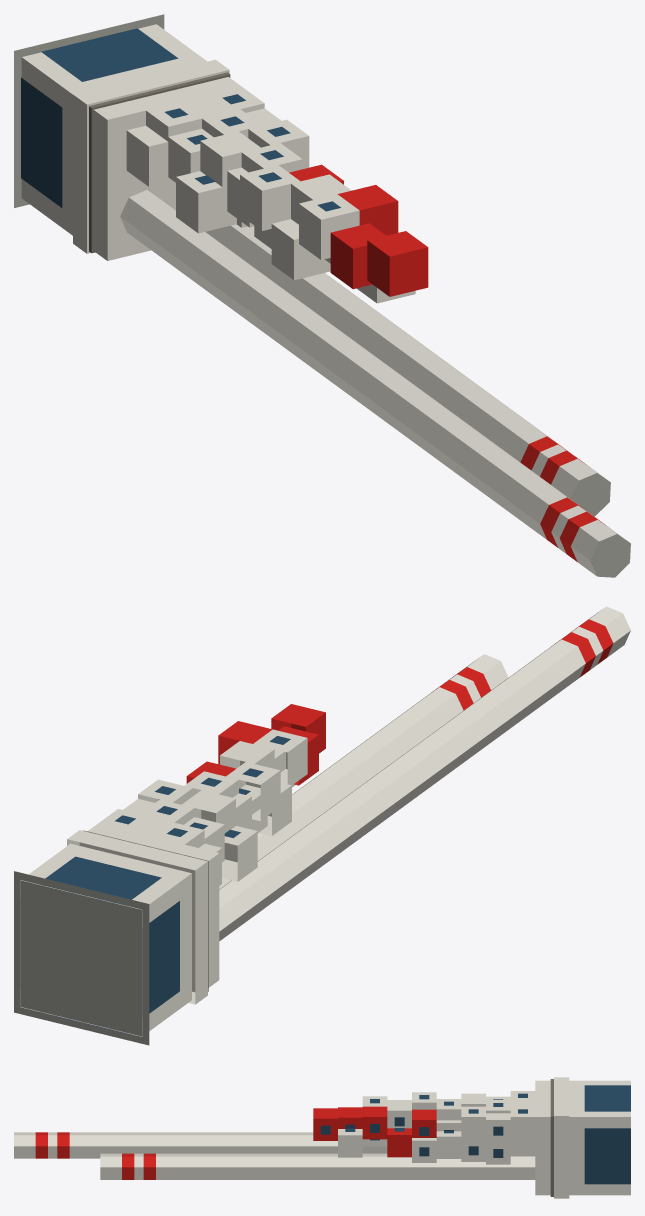
The model's file is complete.glb.
The picture shows the model from 3 angles, top to bottom: view 1: azimuth 30°, elevation 25°; view 2: azimuth 150°, elevation 25°; view 3: azimuth 270°, elevation 25°; orthographic projection. The views are drawn at different scales.
Visible parts, largest first — view 1: complete; view 2: complete; view 3: complete.
Boxes of the visible parts, bbox=[...] form: complete: bbox=[14, 14, 630, 577]; complete: bbox=[14, 606, 630, 1045]; complete: bbox=[14, 1077, 630, 1198].
Size of the model in its own units: 15.6 by 15.6 by 100.
